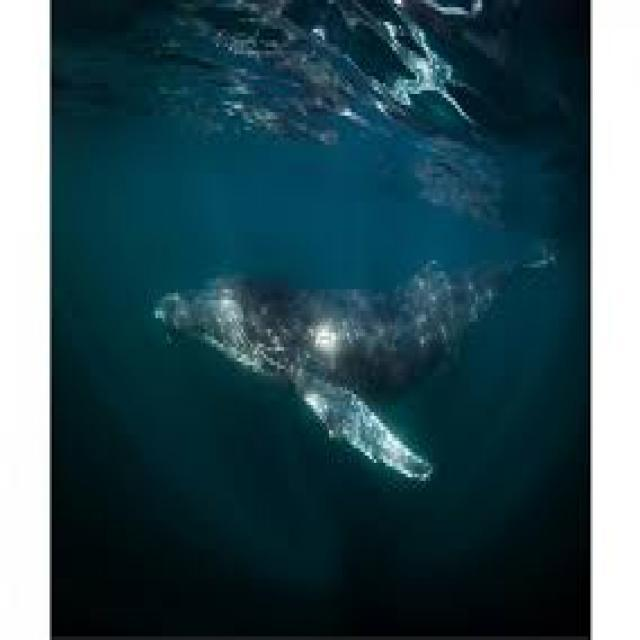blue_whale: (148, 228, 566, 510)
